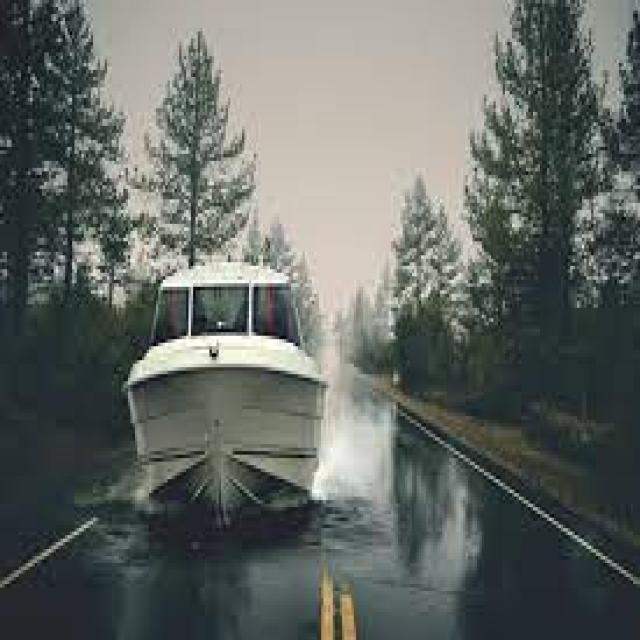ship2: (126, 266, 322, 553)
